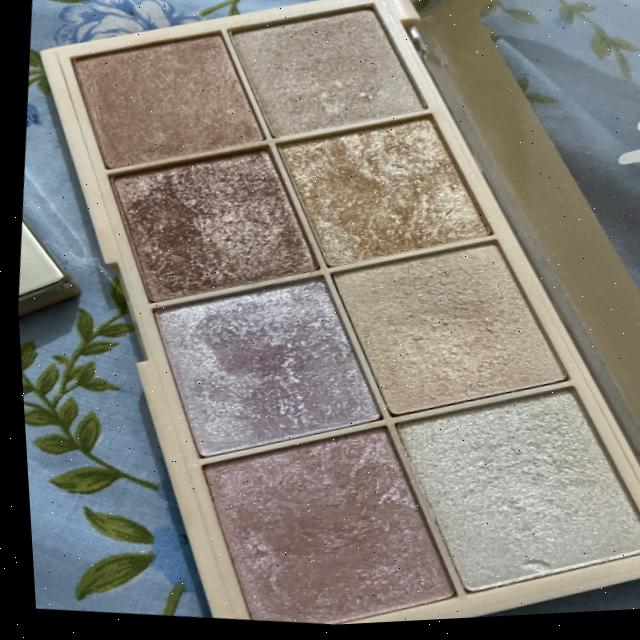highlighter: (168, 391, 472, 634), (364, 366, 640, 619), (308, 215, 605, 447), (131, 244, 398, 483), (82, 110, 333, 337), (256, 88, 510, 299), (44, 7, 287, 193), (234, 0, 439, 163)
